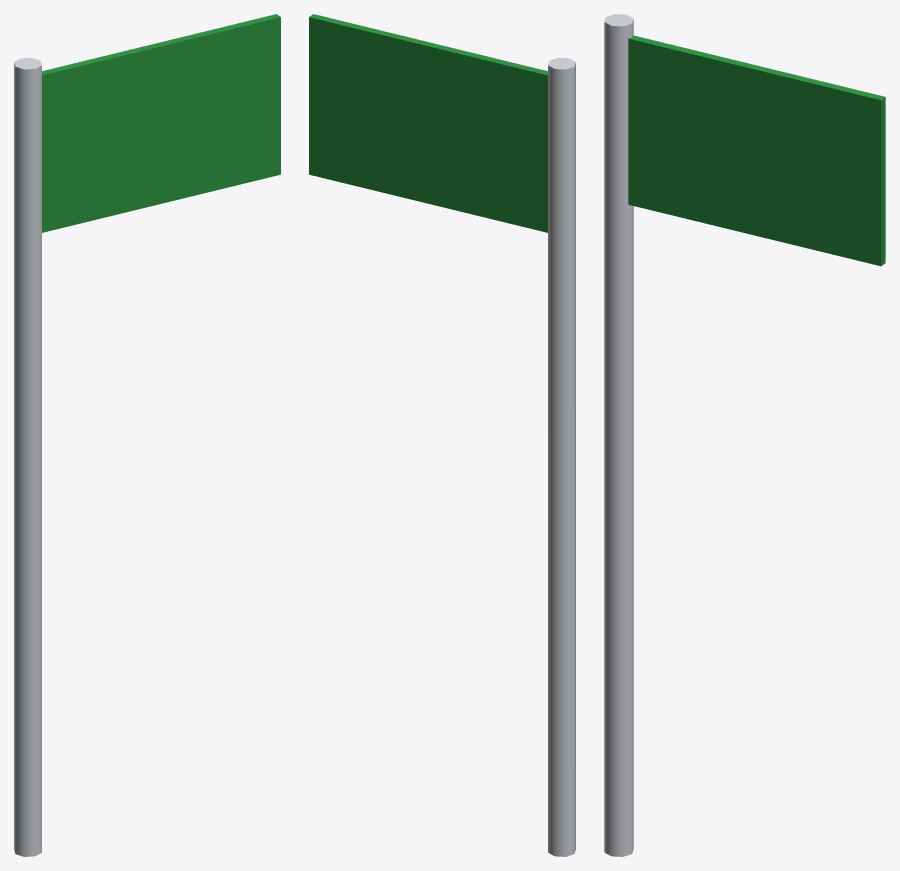
File: flag.glb
3 views of the same model, side by side, from view 1: azimuth 30°, elevation 25°; view 2: azimuth 150°, elevation 25°; view 3: azimuth 330°, elevation 25° (orthographic). The views are drawn at different scales.
Parts seen in each view (by area): view 1: cloth, pole; view 2: cloth, pole; view 3: cloth, pole.
Boxes of the visible parts, <box> form: cloth: <box>42,14,280,232</box>; pole: <box>14,57,41,856</box>; cloth: <box>309,14,547,232</box>; pole: <box>548,57,575,856</box>; cloth: <box>628,35,885,266</box>; pole: <box>604,14,633,856</box>.
Size of the model in its own units: 1.05 by 3 by 0.1.
